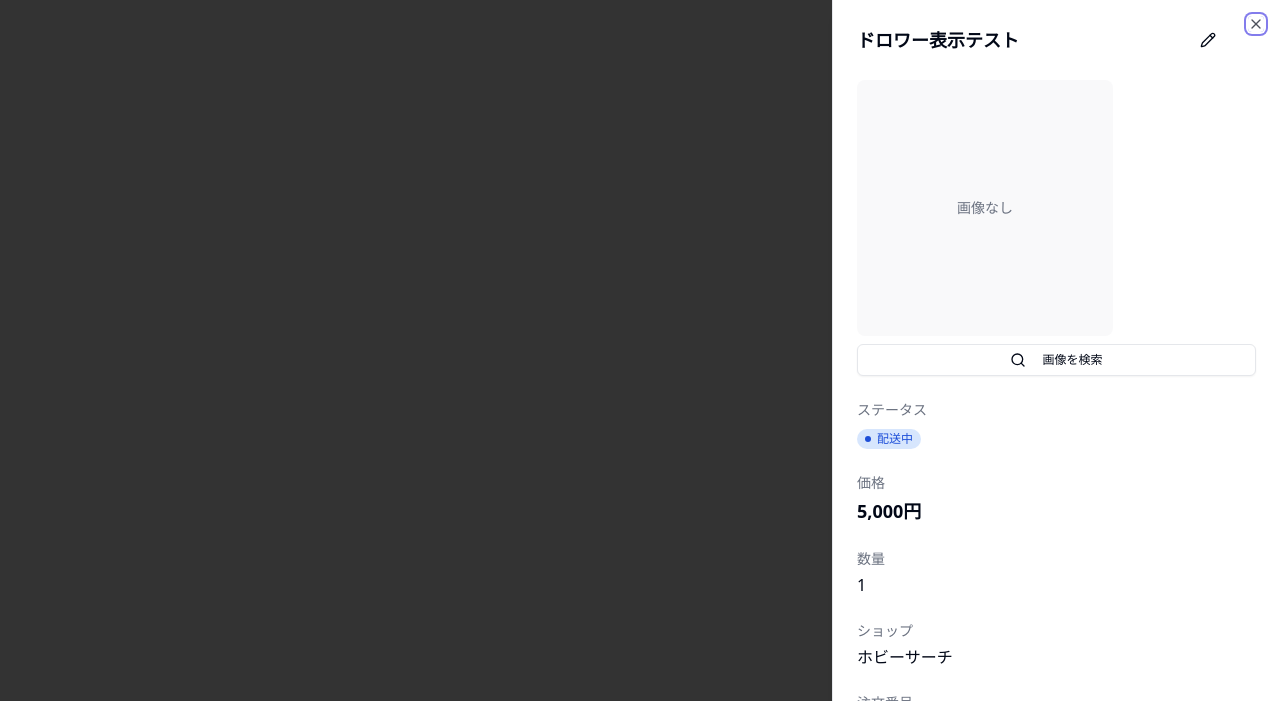
Test case: OrderItemDrawer › handleSave - Validation › shows error when price is empty
Click the button titled "編集".
click(1208, 40)  # box 1192,24 -> 1224,56
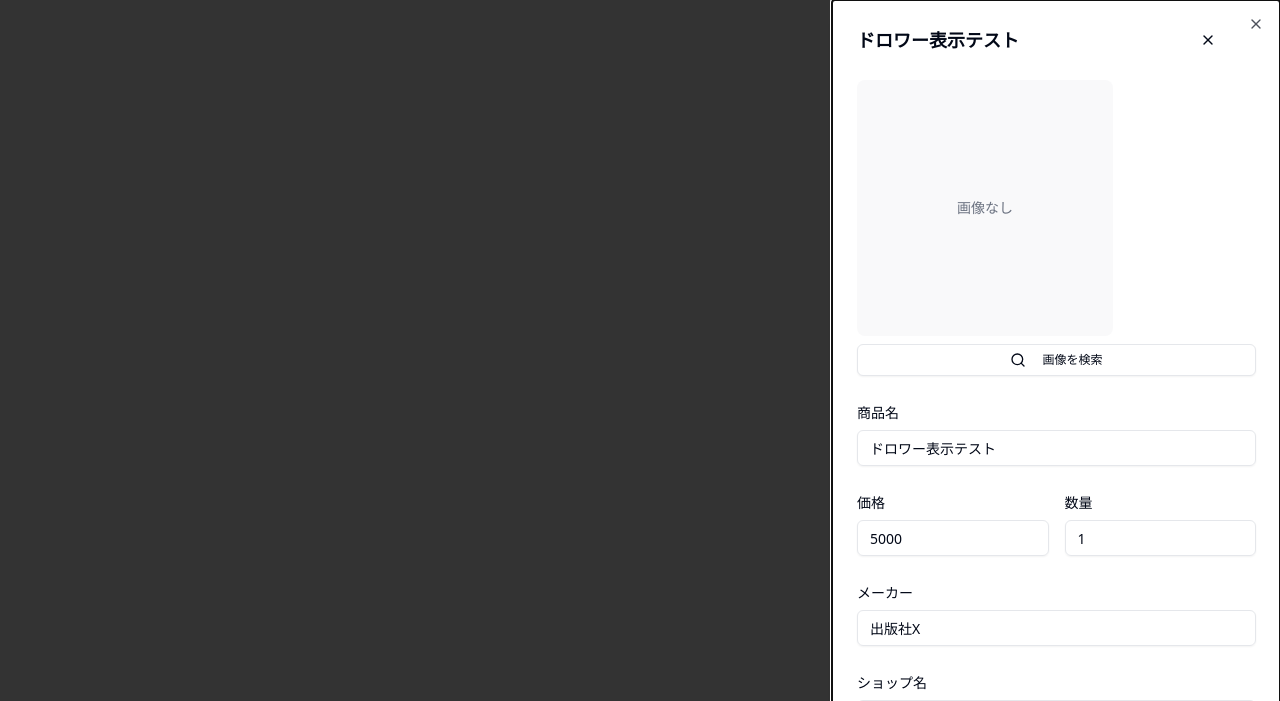
Clear the number field labelled "価格" at [953, 538], box 857,520 -> 1048,556
(page scrolled)
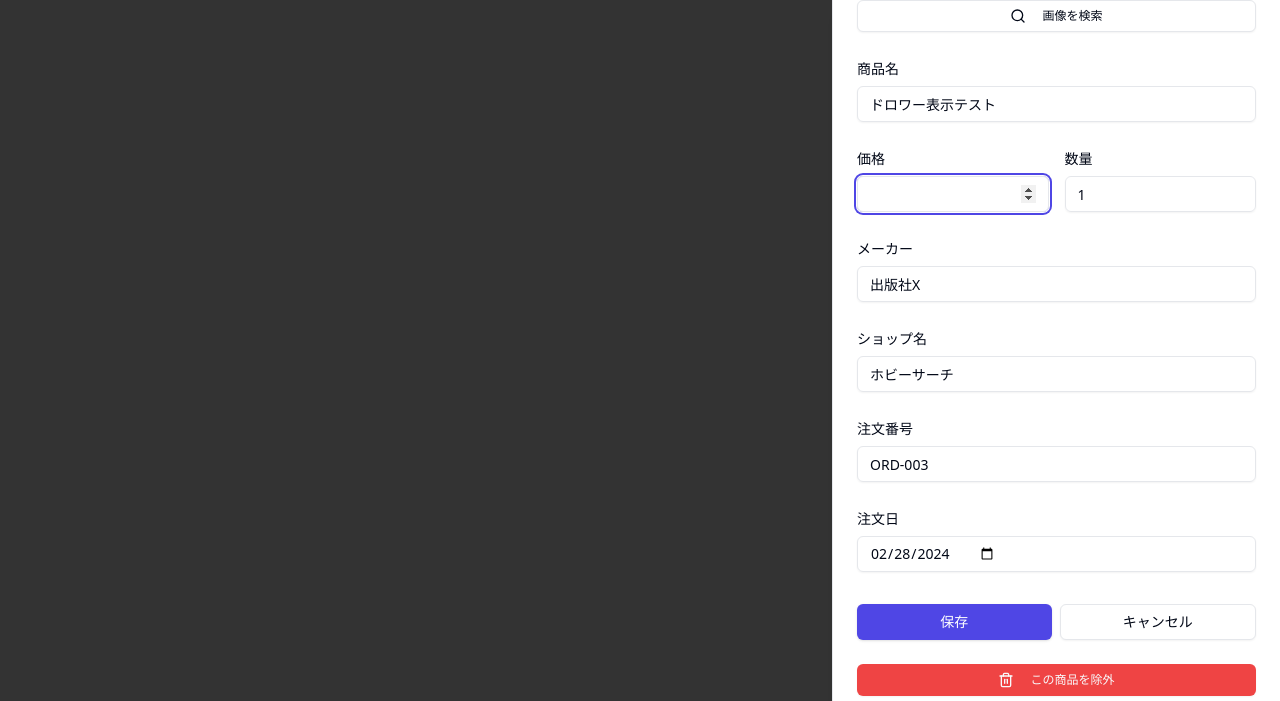
Click the button "保存".
click(954, 622)  # box 857,604 -> 1052,640
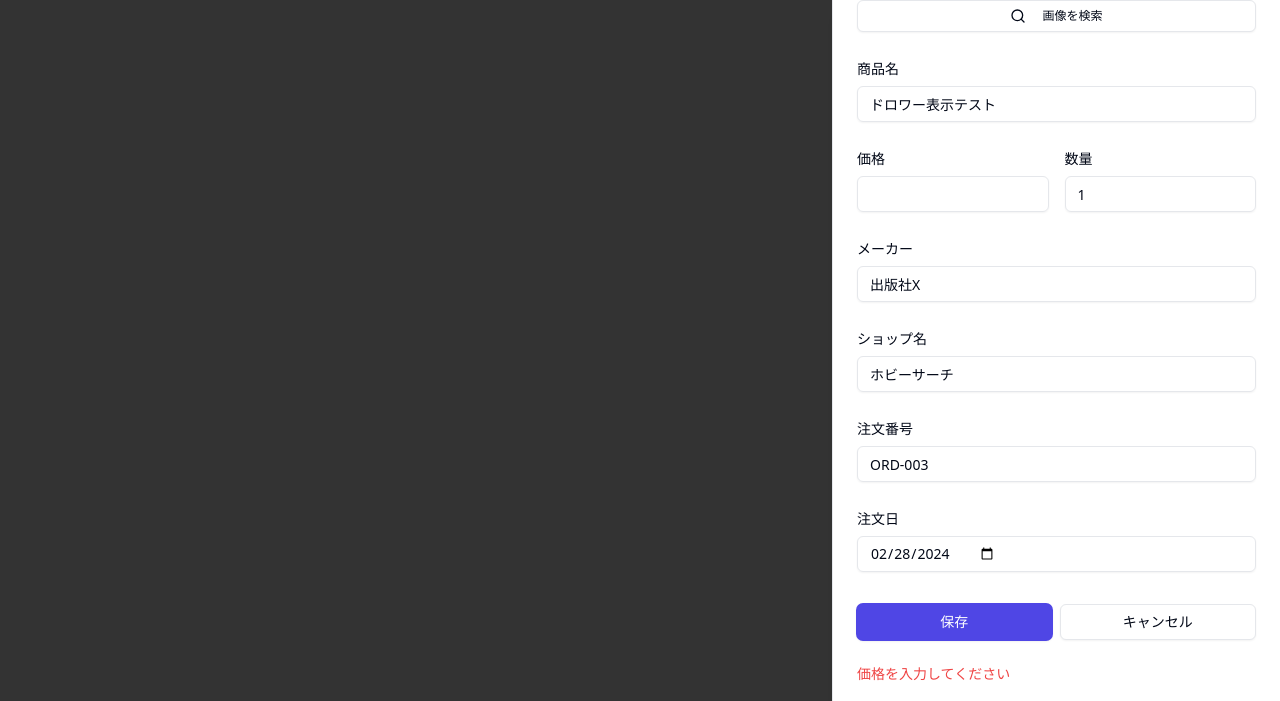
Result: the text "価格を入力してください" is shown at 857,664 -> 1010,683
